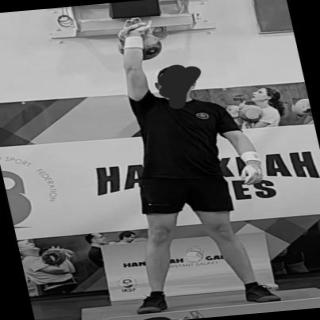kettlebell: (101, 18, 174, 66)
